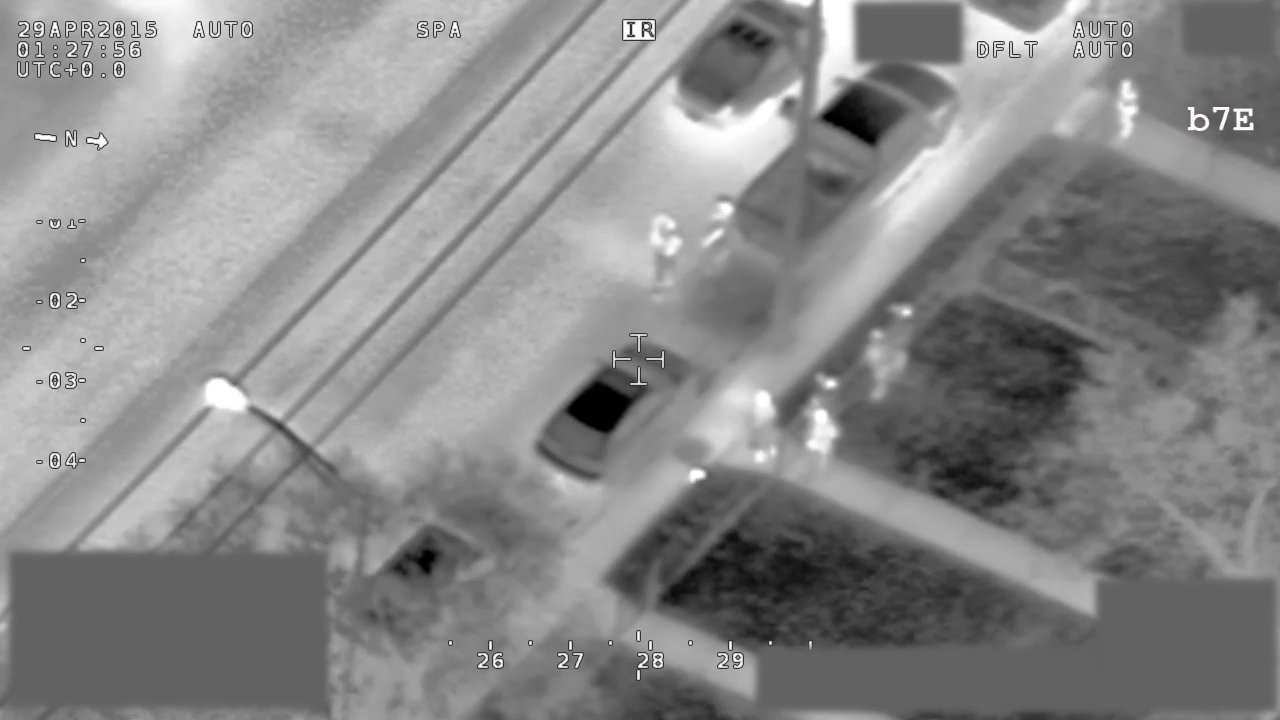vehicle: (735, 58, 967, 269), (336, 491, 526, 665), (533, 337, 715, 489), (670, 1, 836, 127)
